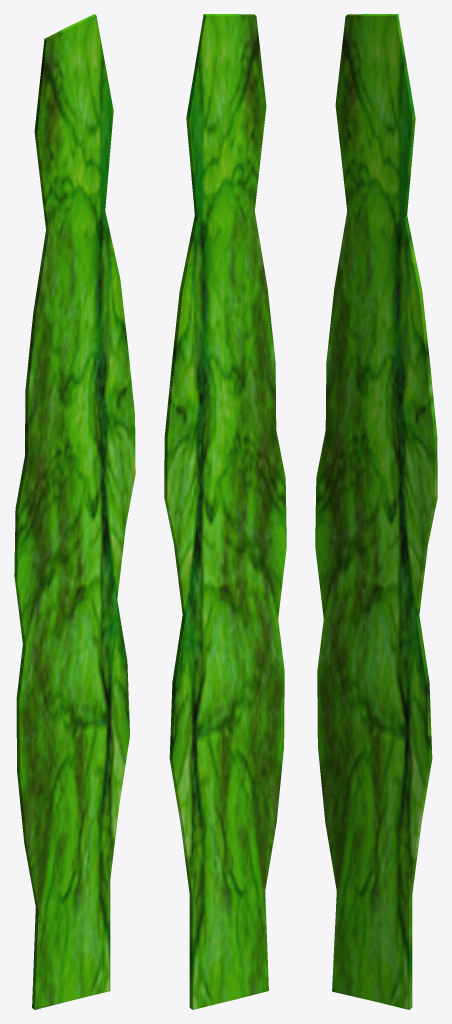
File: Seaweed.FBX
3 renders of one model, left to right at view 1: azimuth 30°, elevation 25°; view 2: azimuth 210°, elevation 25°; view 3: azimuth 330°, elevation 25°, orthographic.
Visible parts, largest first — view 1: Box001; view 2: Box001; view 3: Box001.
Part boxes in pixels (x1=…): Box001: x1=14, y1=14, x2=135, y2=1009; Box001: x1=164, y1=14, x2=286, y2=1009; Box001: x1=315, y1=14, x2=437, y2=1009.
Size of the model in its own units: 16.52 by 131 by 1.18.
Materials: 1 (1 with a texture image).
